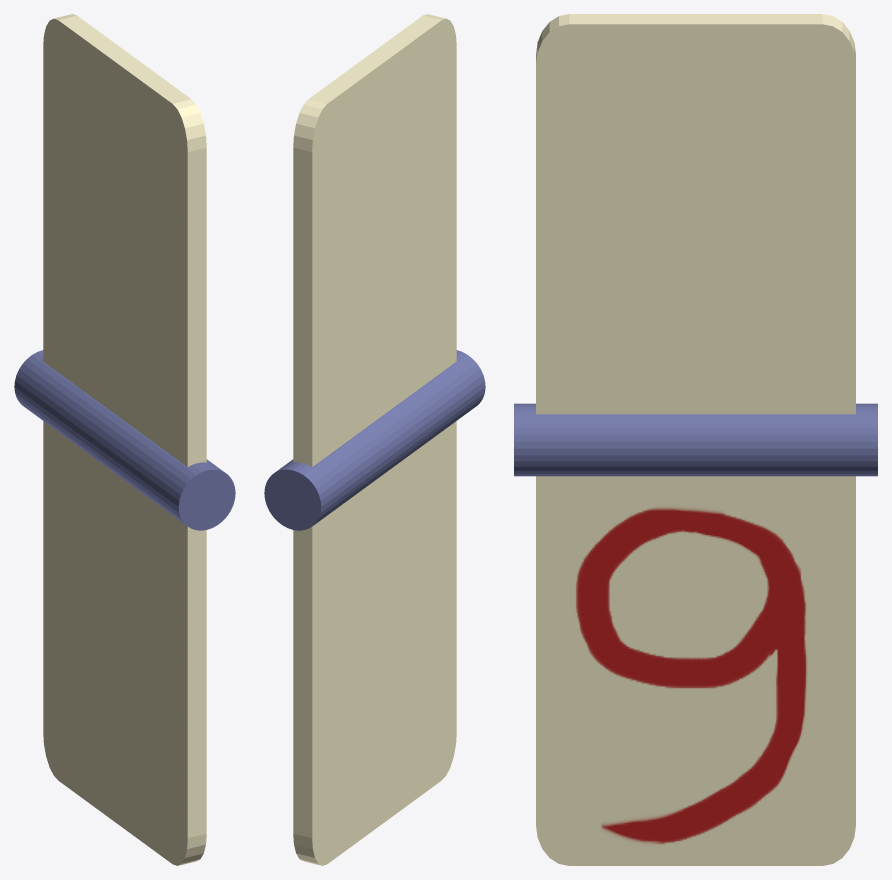
File: Page.fbx
3 views of the same model, side by side, from view 1: azimuth 30°, elevation 25°; view 2: azimuth 150°, elevation 25°; view 3: azimuth 270°, elevation 25° (orthographic). The views are drawn at different scales.
Visible parts, largest first — view 1: Paper, Rod; view 2: Paper, Rod; view 3: Paper, Rod.
Boxes of the visible parts, left/top/right/bottom form: Paper: left=43, top=14, right=206, bottom=865; Rod: left=14, top=350, right=235, bottom=530; Paper: left=293, top=14, right=456, bottom=865; Rod: left=264, top=350, right=485, bottom=530; Paper: left=536, top=14, right=855, bottom=865; Rod: left=514, top=403, right=877, bottom=476.
Size of the model in its own units: 29.98 by 383 by 150.
